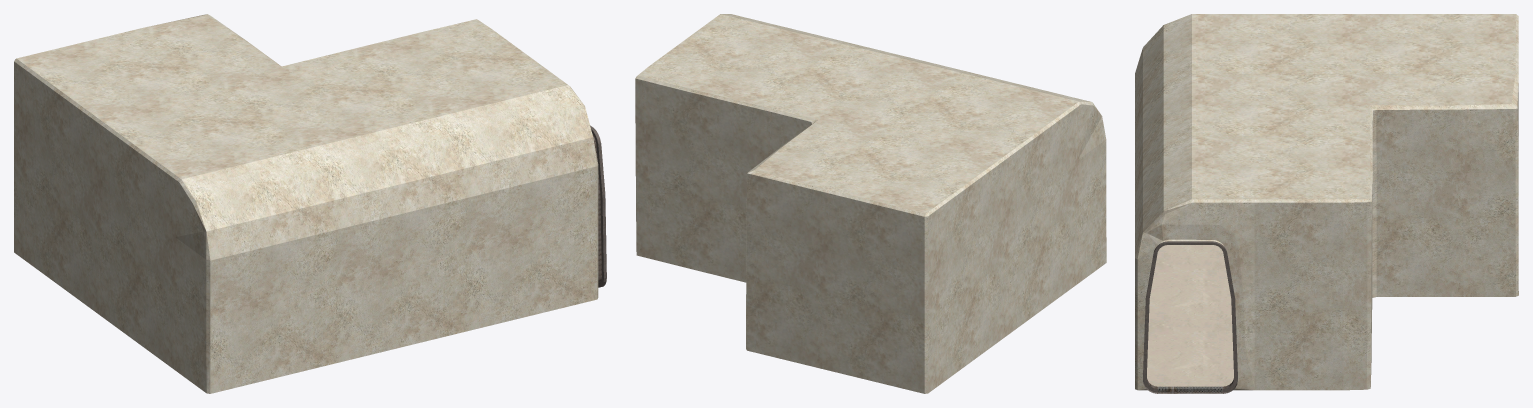
The model's file is thm_tato_house_sml_s01_fp1_r4_bedroom1_mesh_r4.fbx.
3 views of the same model, side by side, from view 1: azimuth 30°, elevation 25°; view 2: azimuth 150°, elevation 25°; view 3: azimuth 270°, elevation 25° (orthographic). The views are drawn at different scales.
Parts seen in each view (by area): view 1: mesh_node; view 2: mesh_node; view 3: mesh_node.
Boxes of the visible parts, x1,y1,x2,y2 form: mesh_node: (14,14,606,393); mesh_node: (635,14,1106,393); mesh_node: (1135,14,1518,393).
Bounding box in the file's own units: 8.71 × 4 × 7.32.
